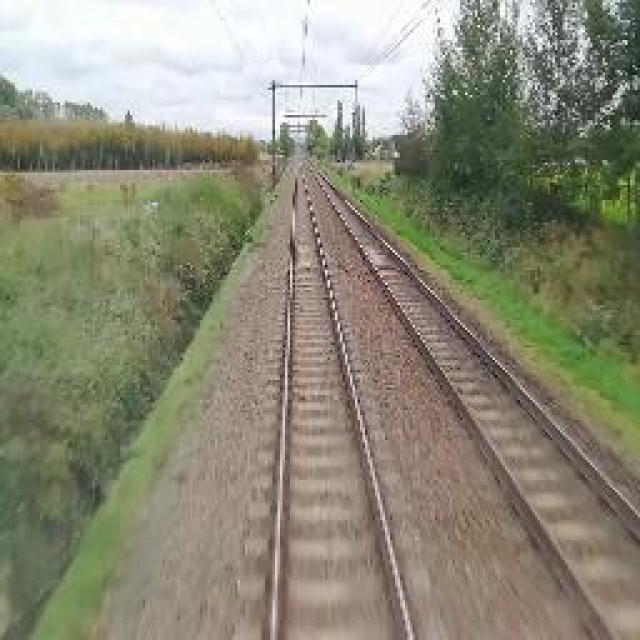rail: (228, 153, 453, 640)
